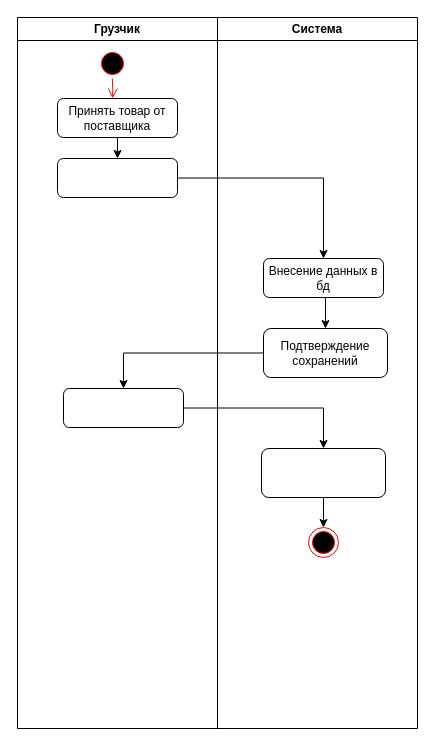
The diagram is 435 pixels wide and 746 high, and some of its shapes have lost their labels. Here are the shapes that lost their labels. From the top down, the centre of each, then its label:
At pixel 117 178: "Внести количество товара в ситему".
At pixel 123 408: "Сохранение изменения".
At pixel 323 473: "Сохранение изменений".
